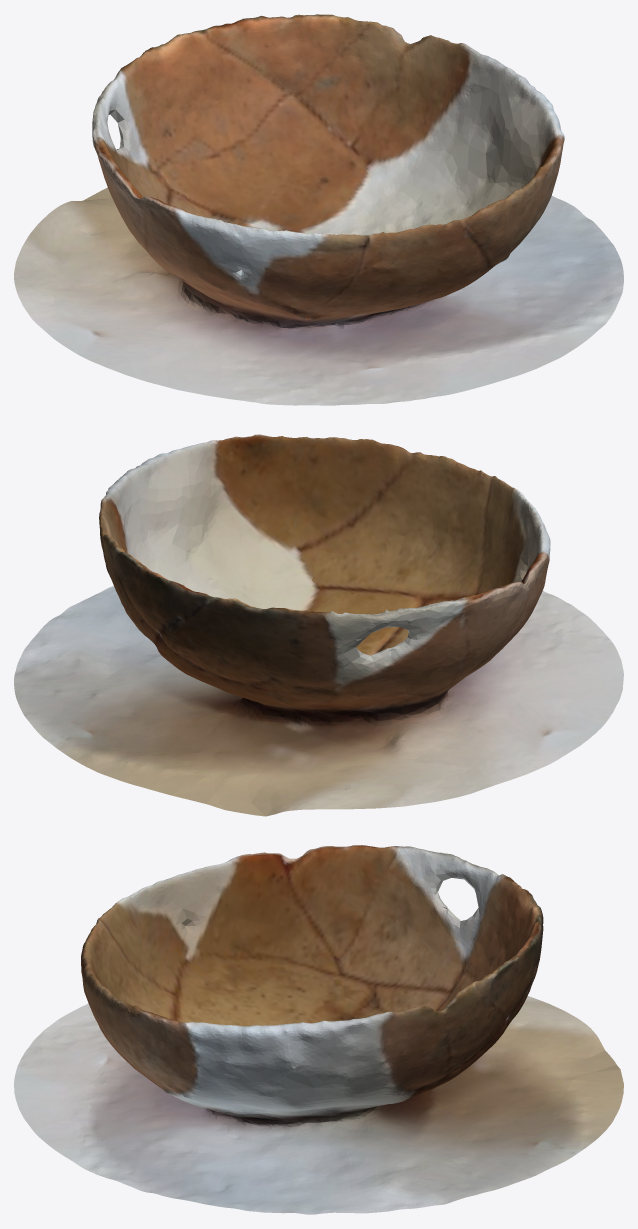
3 renders of one model, top to bottom at view 1: azimuth 30°, elevation 25°; view 2: azimuth 150°, elevation 25°; view 3: azimuth 270°, elevation 25°, orthographic.
Visible parts, largest first — view 1: mesh; view 2: mesh; view 3: mesh.
Boxes of the visible parts, left/top/right/bottom form: mesh: left=14, top=14, right=623, bottom=405; mesh: left=14, top=434, right=623, bottom=816; mesh: left=14, top=845, right=623, bottom=1214.
Bounding box in the file's own units: 0.2144 × 0.0691 × 0.2179.
1 material, 1 textured.
